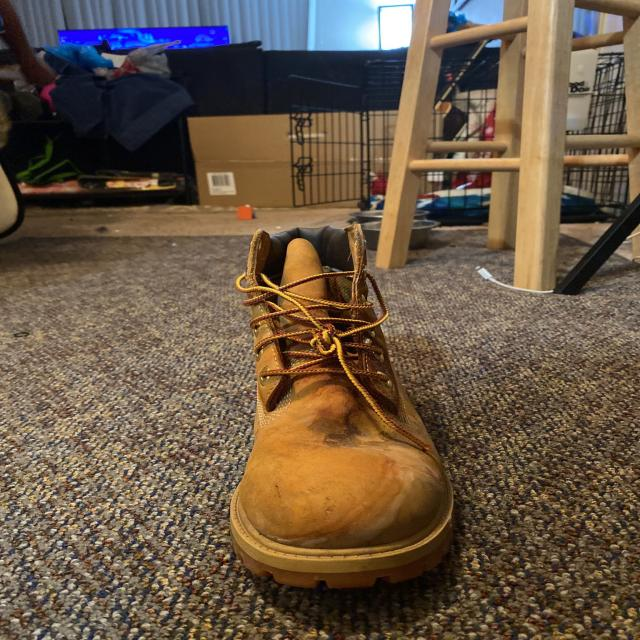shoes: (224, 222, 458, 592)
